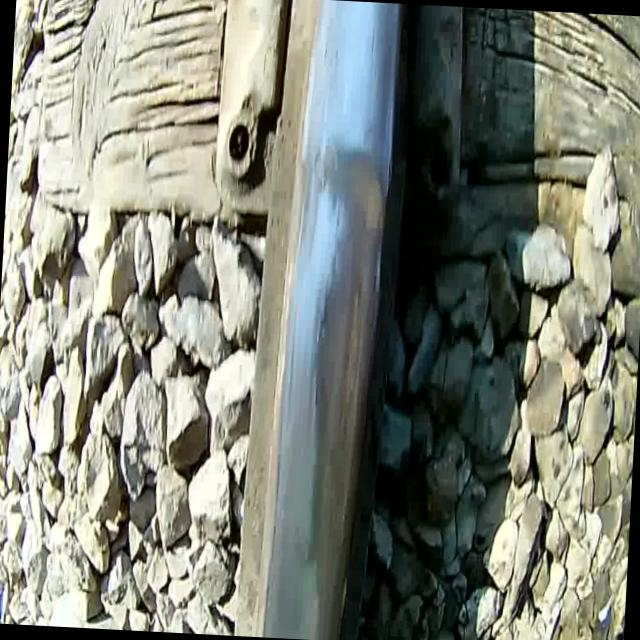Squats: (284, 131, 391, 640)
